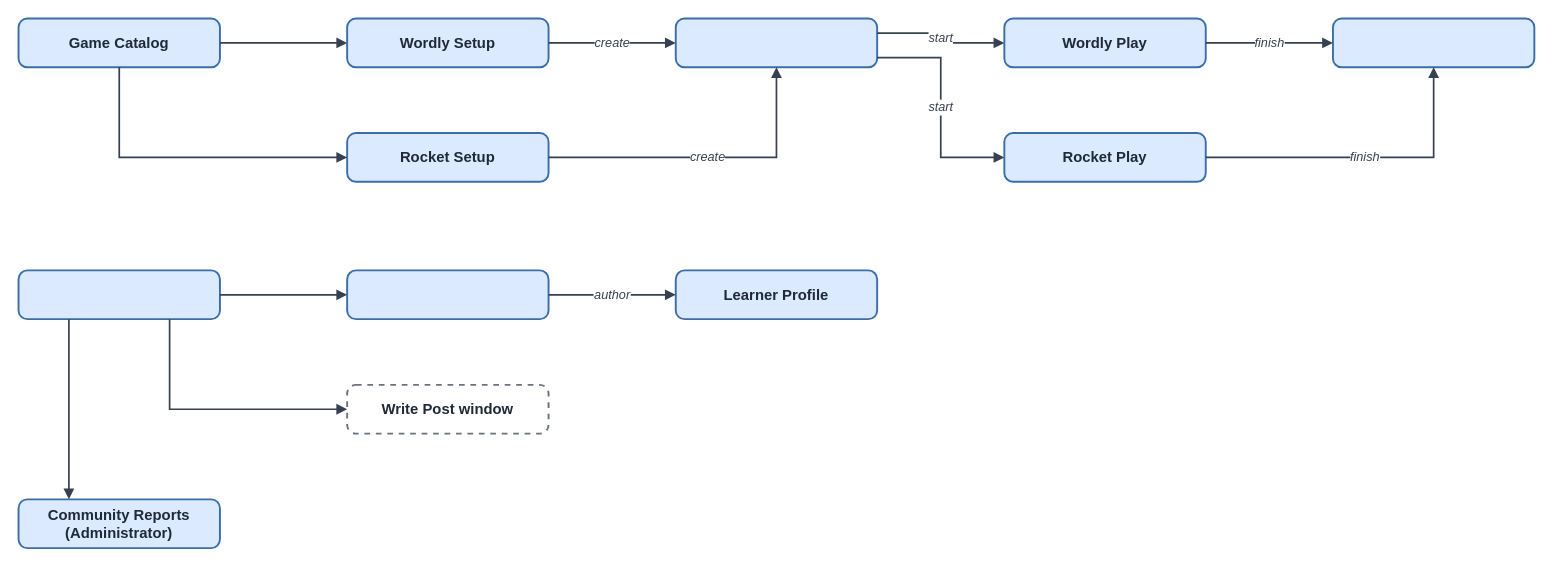
This 1554x568 diagram has some shape labels left out. The shapes that lost their labels are listed below. From the top down, each one's centre as x and y in pixels, then its label:
[776,42]: Game Room
[1433,42]: Game Result
[118,294]: Community Feed
[447,294]: Post Detail
